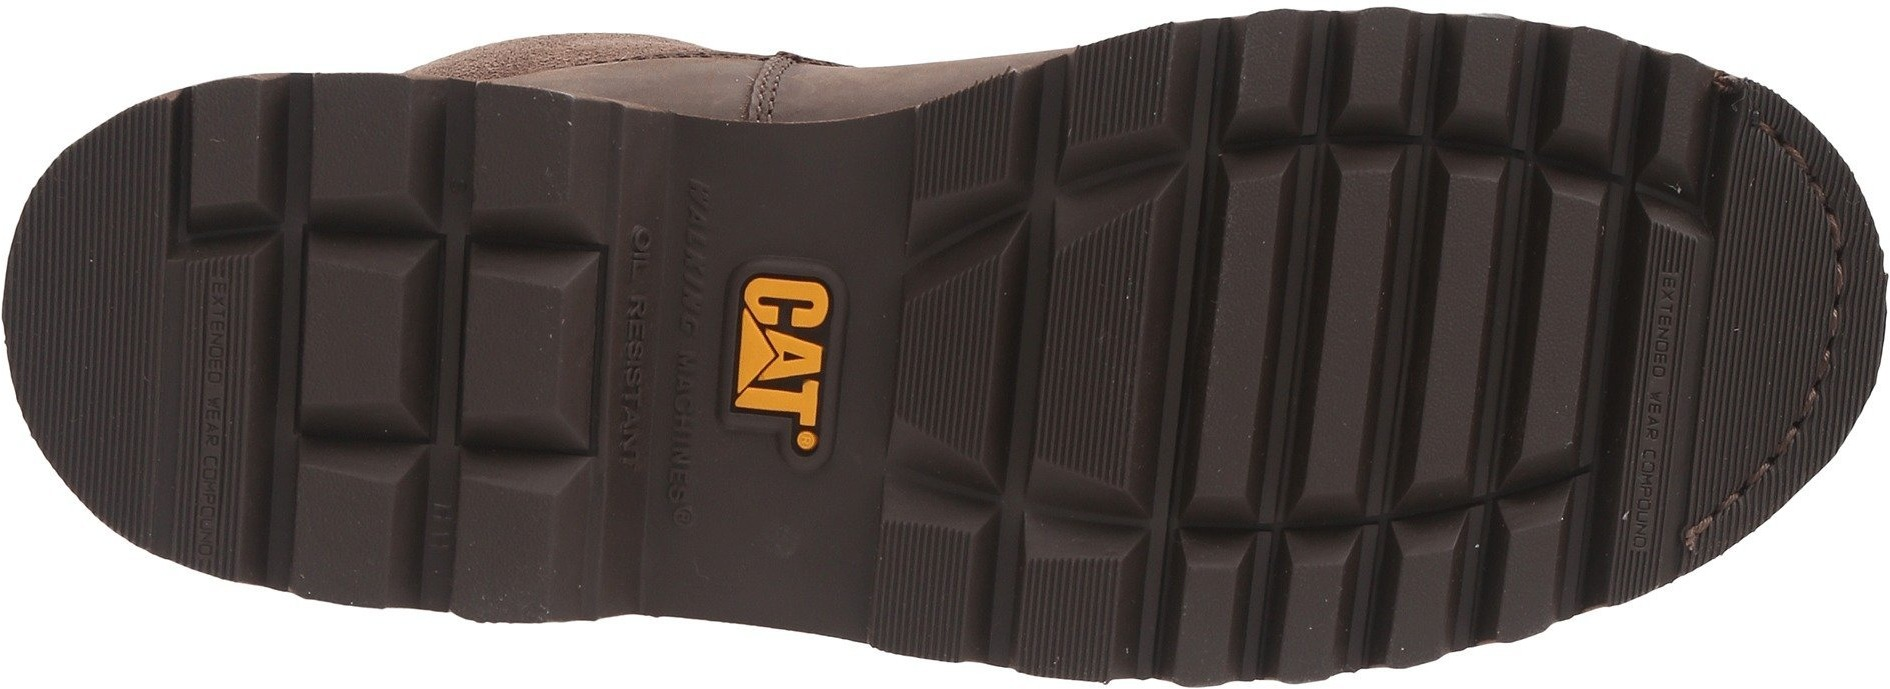quad: (1157, 10, 1638, 677), (876, 24, 1188, 677), (283, 238, 444, 612), (438, 236, 601, 454), (309, 73, 446, 236)
text: (709, 229, 843, 479), (184, 267, 251, 581), (593, 216, 736, 357), (599, 190, 661, 497), (582, 369, 718, 507)
triangle: (709, 229, 843, 479)
